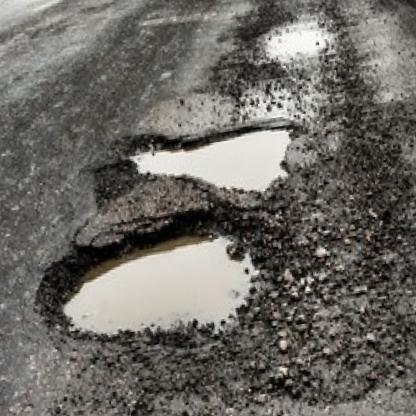pothole: (39, 203, 269, 364), (122, 110, 307, 216)
